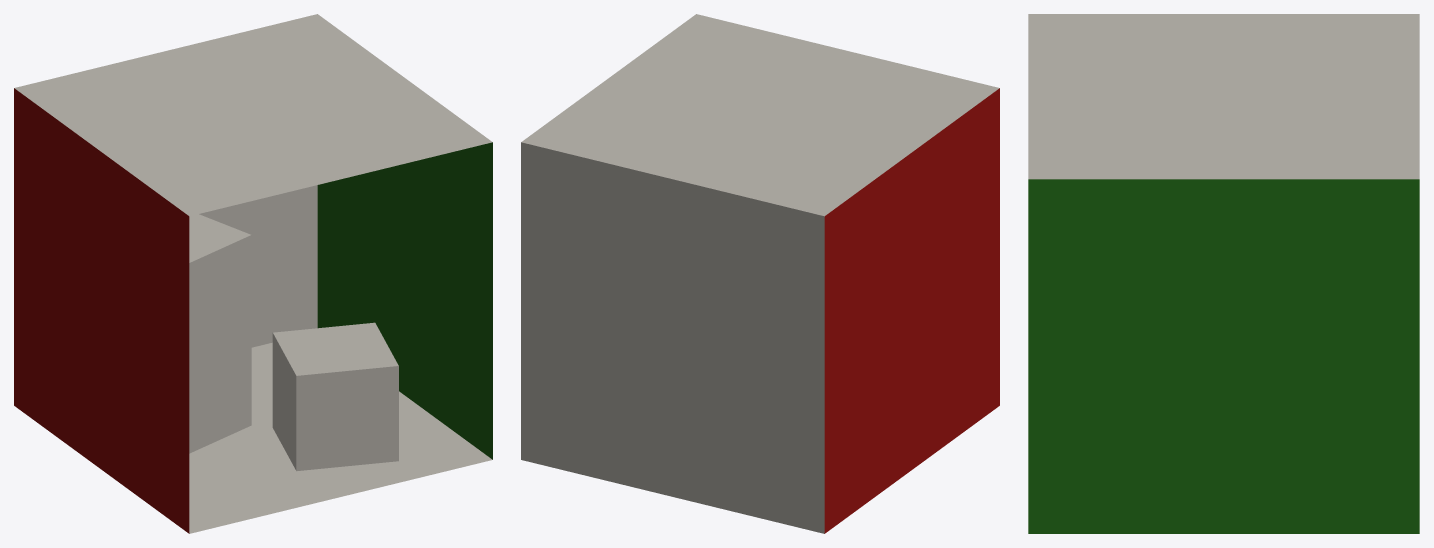
The model's file is CornellBox-Original.obj.
3 renders of one model, left to right at view 1: azimuth 30°, elevation 25°; view 2: azimuth 150°, elevation 25°; view 3: azimuth 270°, elevation 25°, orthographic. The views are drawn at different scales.
Parts seen in each view (by area): view 1: CornellBox-Original; view 2: CornellBox-Original; view 3: CornellBox-Original.
Part boxes in pixels (box(x1,y1,x2,y2)): CornellBox-Original: box(14, 14, 492, 533); CornellBox-Original: box(521, 14, 999, 533); CornellBox-Original: box(1028, 14, 1419, 533).
Size of the model in its own units: 2 by 2 by 2.
